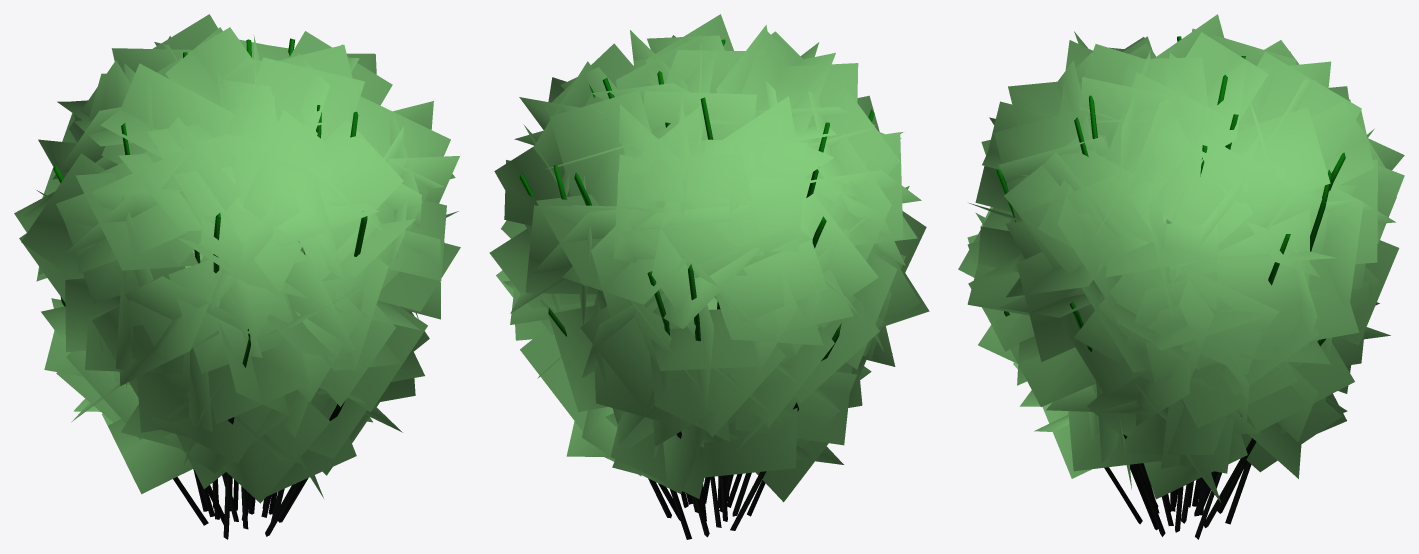
Rendered from hgs_gm07.fbx.
The picture shows the model from 3 angles, left to right: view 1: azimuth 30°, elevation 25°; view 2: azimuth 150°, elevation 25°; view 3: azimuth 270°, elevation 25°; orthographic projection.
Parts seen in each view (by area): view 1: yz01, sy01; view 2: yz01, sy01; view 3: yz01, sy01.
Part boxes in pixels (x1,y1,x2,y2): yz01: (14, 14, 460, 503); sy01: (53, 38, 367, 539); yz01: (489, 14, 929, 502); sy01: (519, 39, 874, 539); yz01: (958, 14, 1404, 502); sy01: (996, 36, 1345, 539).
Size of the model in its own units: 0.0385 by 0.0464 by 0.0382.
